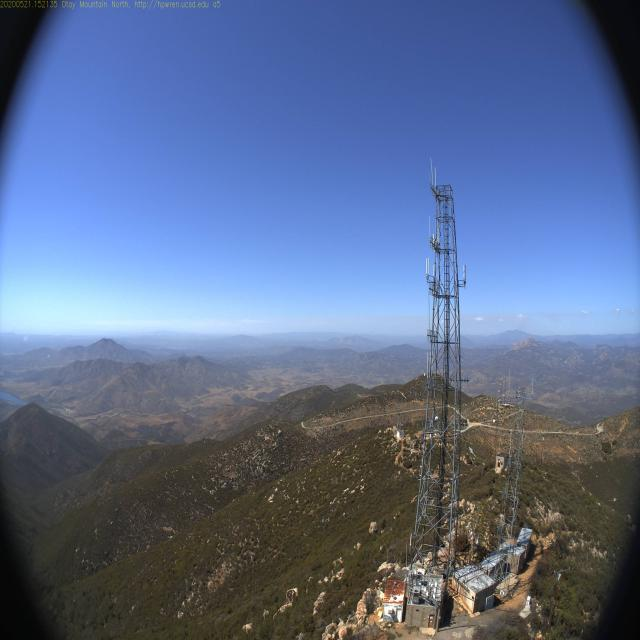smoke: (8, 308, 30, 346)
